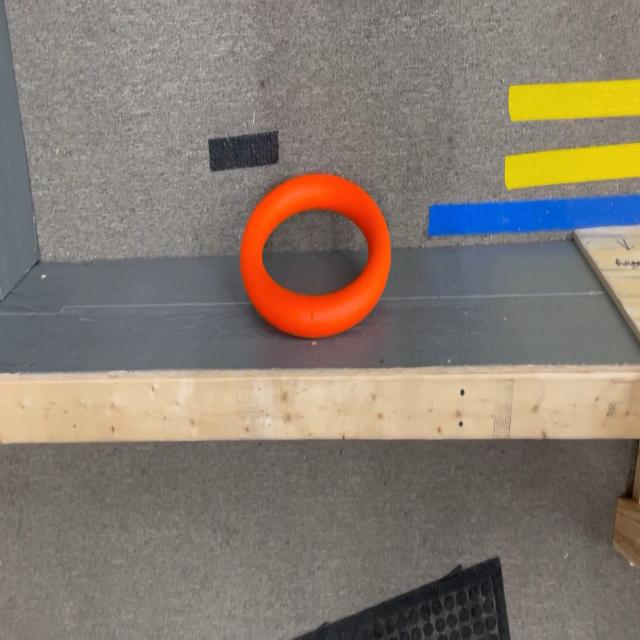note: (240, 175, 391, 337)
